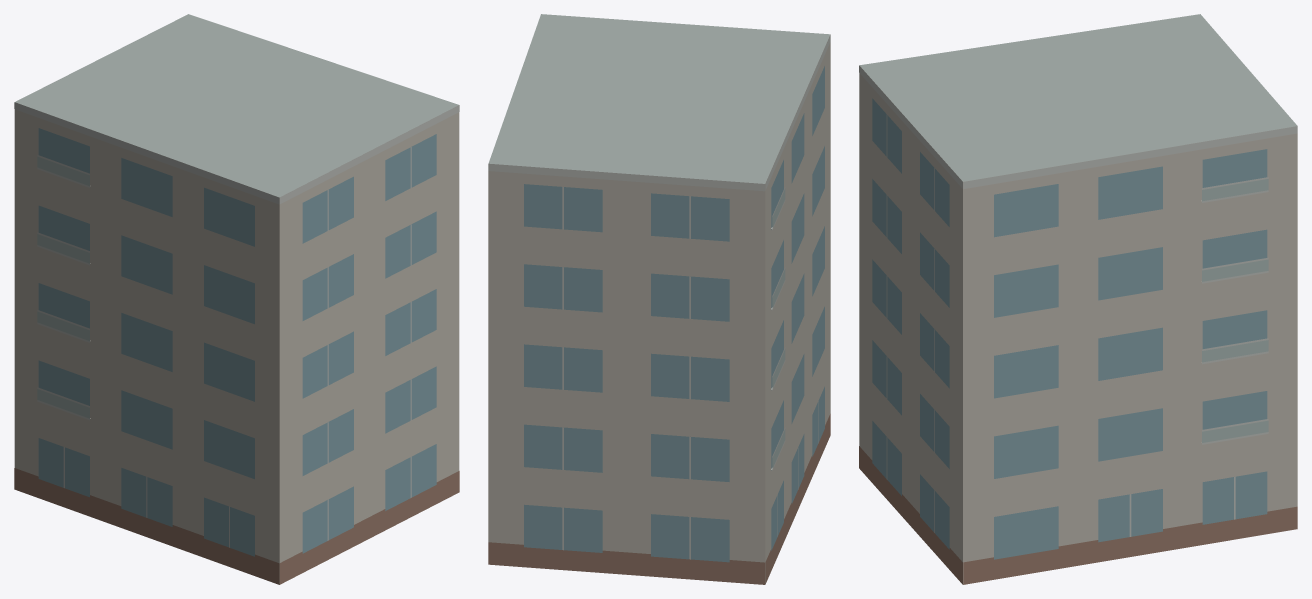
Rendered from survey-upis-32918372.glb.
3 views of the same model, side by side, from view 1: azimuth 30°, elevation 25°; view 2: azimuth 150°, elevation 25°; view 3: azimuth 270°, elevation 25° (orthographic). The views are drawn at different scales.
Visible parts, largest first — view 1: survey-upis-32918372.tmp; view 2: survey-upis-32918372.tmp; view 3: survey-upis-32918372.tmp.
Boxes of the visible parts, left/top/right/bottom form: survey-upis-32918372.tmp: left=14, top=14, right=459, bottom=584; survey-upis-32918372.tmp: left=488, top=14, right=830, bottom=584; survey-upis-32918372.tmp: left=859, top=14, right=1297, bottom=584.
Size of the model in its own units: 11.94 by 13.35 by 13.18.
